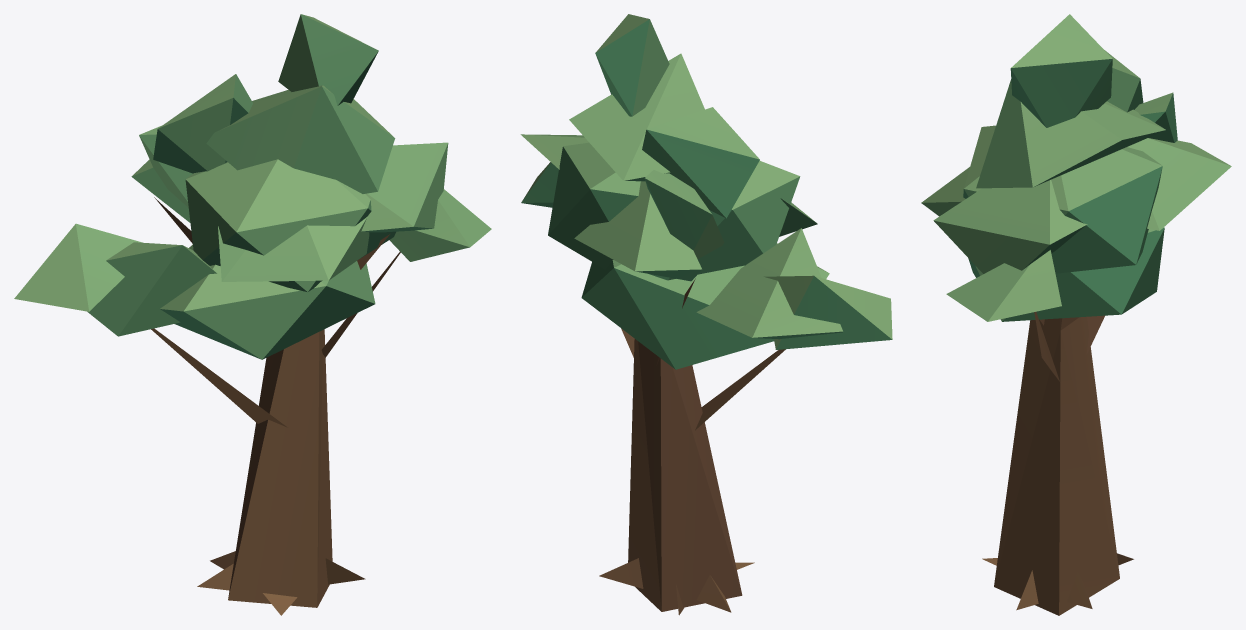
3 renders of one model, left to right at view 1: azimuth 30°, elevation 25°; view 2: azimuth 150°, elevation 25°; view 3: azimuth 270°, elevation 25°, orthographic. The views are drawn at different scales.
Parts seen in each view (by area): view 1: WK_RegularTree_DeepForest_LOD2_Compact; view 2: WK_RegularTree_DeepForest_LOD2_Compact; view 3: WK_RegularTree_DeepForest_LOD2_Compact.
Part boxes in pixels (bbox=[...]): WK_RegularTree_DeepForest_LOD2_Compact: bbox=[14, 14, 491, 615]; WK_RegularTree_DeepForest_LOD2_Compact: bbox=[520, 14, 892, 615]; WK_RegularTree_DeepForest_LOD2_Compact: bbox=[921, 14, 1231, 615].
Size of the model in its own units: 4.88 by 6.42 by 3.05.
